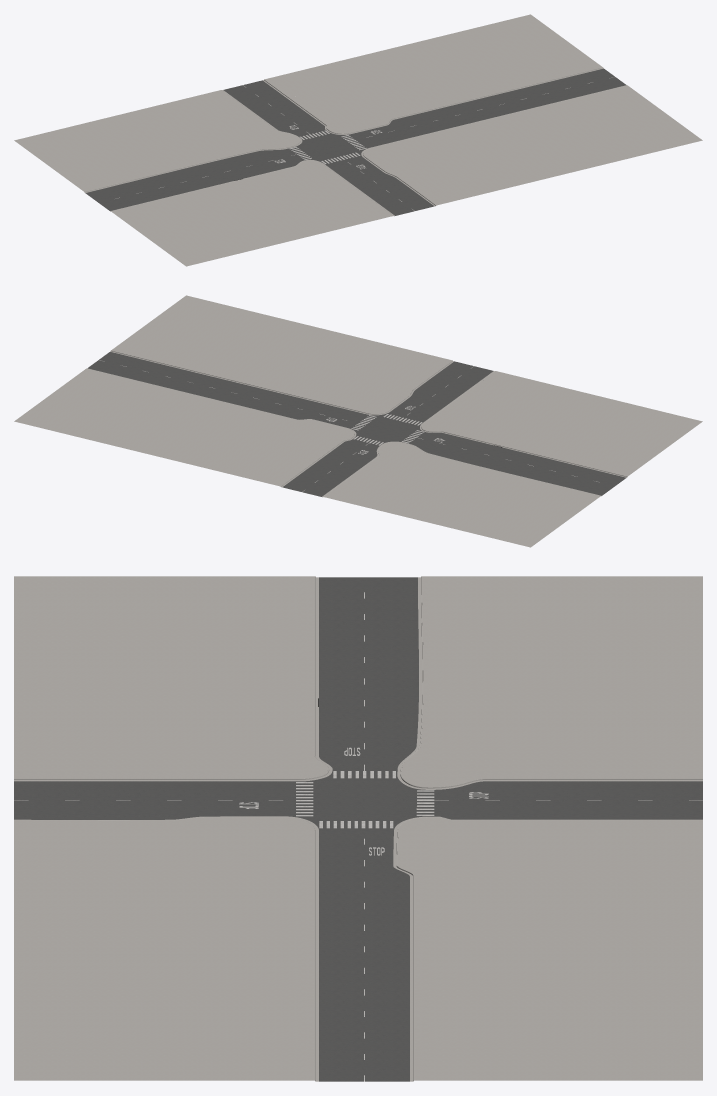
Rendered from dtLight.fbx.
3 renders of one model, top to bottom at view 1: azimuth 30°, elevation 25°; view 2: azimuth 150°, elevation 25°; view 3: azimuth 270°, elevation 25°, orthographic. The views are drawn at different scales.
Parts seen in each view (by area): view 1: TerrainNode, RoadsNode; view 2: TerrainNode, RoadsNode; view 3: TerrainNode, RoadsNode.
Part boxes in pixels (x1=…): TerrainNode: x1=14, y1=14, x2=702, y2=266; RoadsNode: x1=83, y1=64, x2=630, y2=217; TerrainNode: x1=14, y1=295, x2=702, y2=547; RoadsNode: x1=83, y1=348, x2=630, y2=498; TerrainNode: x1=14, y1=576, x2=702, y2=1080; RoadsNode: x1=14, y1=576, x2=702, y2=1081.
Bounding box in the file's own units: 171 × 98.69 × 0.16.
